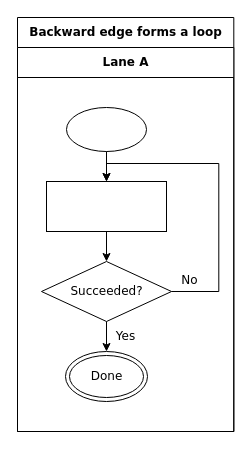
The diagram is 252 pixels wide and 449 high, and some of its shapes have lost their labels. Each missing label, with the box of its shape:
Enter: (66, 106, 146, 152)
Try send: (46, 180, 166, 232)
